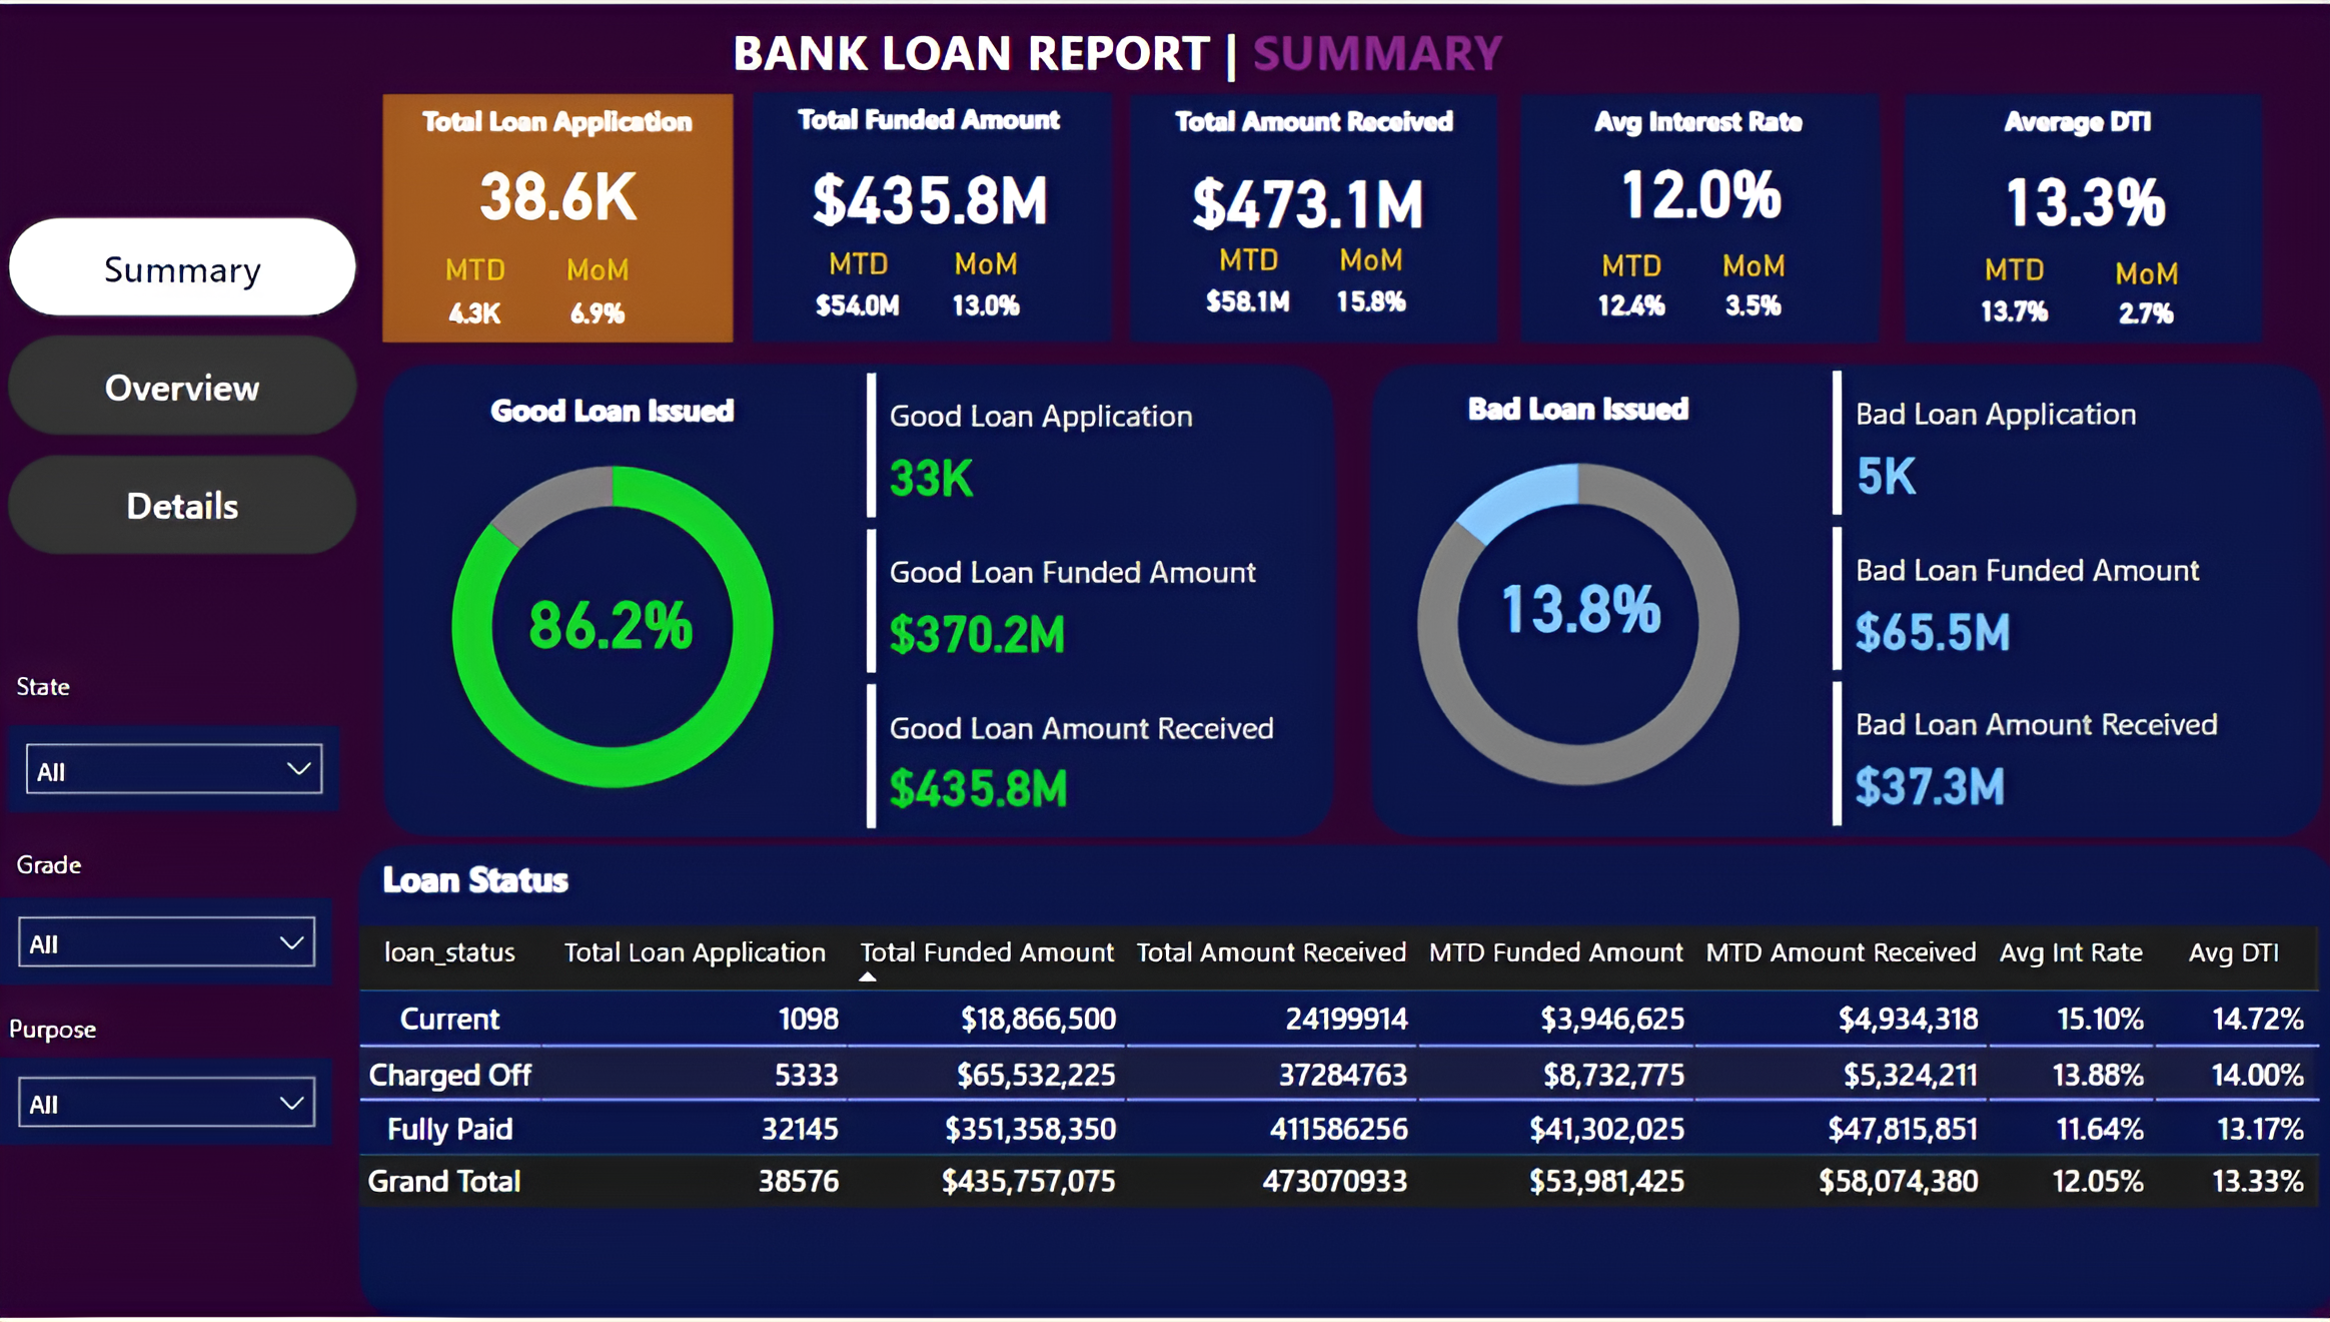

The dashboard page shown, as its layout file describes it:
{"tool":"powerbi","page":{"name":"Summary","canvas":[1280,720],"ordinal":0},"visuals":[{"type":"shape","box":[196.2,461.1,1084.1,259.3],"z":1000},{"type":"shape","box":[211.4,50,184.9,133.5],"z":2000,"group":"g1"},{"type":"shape","box":[413,52,194.9,133.1],"z":2000,"group":"g2"},{"type":"shape","box":[623.7,79.4,194.9,105.2],"z":2000,"group":"g3"},{"type":"shape","box":[1045.6,80.9,194.9,103.5],"z":2000,"group":"g5"},{"type":"shape","box":[834.3,84,194.9,101.2],"z":2000,"group":"g4"},{"type":"shape","box":[209.9,197.6,521.4,259.3],"z":2000},{"type":"textbox","box":[396.6,2.7,462.4,46.7],"z":4000},{"type":"card","fields":{"Values":["bank_loan.Total Loan Application"]},"box":[209.9,79.3,192.1,45.6],"z":4000,"group":"g1"},{"type":"card","fields":{"Values":["bank_loan.Average Interset Rate"]},"box":[836.6,79.7,190.7,43.3],"z":4000,"group":"g4"},{"type":"card","fields":{"Values":["bank_loan.Total Fund"]},"box":[413.2,81.2,194.9,48],"z":4000,"group":"g2"},{"type":"card","fields":{"Values":["Sum(bank_loan.total_payment)"]},"box":[620.2,81.7,194.9,48],"z":4000,"group":"g3"},{"type":"card","fields":{"Values":["bank_loan.Avg DTI"]},"box":[1047.5,82.5,192.1,46.1],"z":4000,"group":"g5"},{"type":"textbox","box":[413.2,48.3,196.2,41.2],"z":5000,"group":"g2"},{"type":"textbox","box":[621.3,48.8,199,28.8],"z":5000,"group":"g3"},{"type":"group","id":"g1","title":"Group 1","box":[209.9,49.4,192.1,135.8],"z":5000},{"type":"textbox","box":[209.9,49.4,192.1,42.7],"z":5000,"group":"g1"},{"type":"textbox","box":[838,49.4,186.6,33.2],"z":5000,"group":"g4"},{"type":"textbox","box":[1046.1,49.4,192.1,33.1],"z":5000,"group":"g5"},{"type":"card","title":"MTD","fields":{"Values":["bank_loan.MTD Amount Received"]},"box":[644.3,130,79.6,49.2],"z":6000,"group":"g3"},{"type":"card","title":"MTD","fields":{"Values":["bank_loan.MTD Funded Amount"]},"box":[430.5,132.1,79.6,43.9],"z":6000,"group":"g2"},{"type":"card","title":"MTD","fields":{"Values":["bank_loan.MTD Average int_rate"]},"box":[855,132.7,79.6,47.3],"z":6000,"group":"g4"},{"type":"card","title":"MTD","fields":{"Values":["bank_loan.MTD LOAN APPLICATION"]},"box":[220.6,135.7,79.4,49.6],"z":6000,"group":"g1"},{"type":"card","title":"MTD","fields":{"Values":["bank_loan.MTD DTI"]},"box":[1065.3,136.2,79.6,47.6],"z":6000,"group":"g5"},{"type":"textbox","box":[4.1,359.5,192.1,30.2],"z":6000},{"type":"card","title":"MoM","fields":{"Values":["bank_loan.MOM Amount Received"]},"box":[711.5,130,79.6,49.2],"z":7000,"group":"g3"},{"type":"card","title":"MoM","fields":{"Values":["bank_loan.MOM Fund Amount"]},"box":[500.5,132.1,79.6,43.9],"z":7000,"group":"g2"},{"type":"card","title":"MoM","fields":{"Values":["bank_loan.MOM Average Int Rate"]},"box":[922.2,132.7,79.6,47.3],"z":7000,"group":"g4"},{"type":"card","title":"MoM","fields":{"Values":["bank_loan.MOM loan Application"]},"box":[287.7,135.7,79.4,49.6],"z":7000,"group":"g1"},{"type":"card","title":"MoM","fields":{"Values":["bank_loan.MOM Avg DTI"]},"box":[1138,137.6,79.6,47.6],"z":7000,"group":"g5"},{"type":"textbox","box":[240.1,205.8,192.1,42.5],"z":7000},{"type":"group","id":"g2","title":"Group 1","box":[413,48.3,196.4,136.8],"z":8000},{"type":"group","id":"g3","title":"Group 1","box":[620.2,48.8,200,135.8],"z":9000},{"type":"donutChart","fields":{"Category":["bank_loan.Good Loan vs Bad Loan"],"Y":["bank_loan.Total Loan Application"]},"box":[211.3,226.4,249.7,230.5],"z":10000},{"type":"group","id":"g4","title":"Group 1","box":[834.3,49.4,194.9,135.8],"z":11000},{"type":"group","id":"g5","title":"Group 1","box":[1045.6,49.4,194.9,135.8],"z":12000},{"type":"shape","box":[752,197.6,521.4,259.3],"z":13000},{"type":"card","fields":{"Values":["bank_loan.Good Loan Percentage"]},"box":[240.1,315.6,190.7,43.9],"z":14000},{"type":"cardVisual","fields":{"Data":["bank_loan.Good Loan Application","bank_loan.Good Loan Funded Amount","bank_loan.Good Loan Amount Received"]},"box":[470.7,197.6,251.1,259.3],"z":15000},{"type":"textbox","box":[769.4,204.9,192.1,42.5],"z":16000},{"type":"donutChart","fields":{"Category":["bank_loan.Good Loan vs Bad Loan"],"Y":["bank_loan.Total Loan Application"]},"box":[740.6,225.4,249.7,230.5],"z":17000},{"type":"cardVisual","fields":{"Data":["bank_loan.Bad Loan Application","bank_loan.Bad Loan Funded Amount","bank_loan.Bad Loan Amount Received"]},"box":[999.9,196.6,251.1,259.3],"z":18000},{"type":"card","fields":{"Values":["bank_loan.Bad Loan Percentage"]},"box":[771.2,306,190.7,43.9],"z":19000},{"type":"tableEx","fields":{"Values":["bank_loan.loan_status","bank_loan.Total Loan Application","bank_loan.Total Fund","bank_loan.Total Amount Received","bank_loan.MTD Funded Amount","bank_loan.MTD Amount Received","bank_loan.Average Interset Rate","bank_loan.Avg DTI"]},"box":[193.5,500.9,1086.8,219.6],"z":20000},{"type":"textbox","box":[164.7,461.1,192.1,42.5],"z":21000},{"type":"slicer","fields":{"Values":["bank_loan.address_state"]},"box":[4.1,395.2,182.5,48],"z":22000},{"type":"textbox","box":[4.1,457,192.1,30.2],"z":23000},{"type":"tableEx","fields":{"Values":["bank_loan.loan_status","bank_loan.Total Loan Application","bank_loan.Total Fund","bank_loan.Total Amount Received","bank_loan.MTD Funded Amount","bank_loan.MTD Amount Received","bank_loan.Average Interset Rate","bank_loan.Avg DTI"]},"box":[191.4,500.4,1086.8,219.6],"z":24000},{"type":"slicer","fields":{"Values":["bank_loan.grade"]},"box":[0,489.3,182.5,48],"z":25000},{"type":"slicer","fields":{"Values":["bank_loan.purpose"]},"box":[0,577.2,182.5,48],"z":26000},{"type":"textbox","box":[0,547,192.1,30.2],"z":27000},{"type":"pageNavigator","box":[4.1,116.6,192.1,185.2],"z":27001}]}

Visuals, with their boxes in screenshot pixels (x1, y1, x2, y2), scaled from the page's 1280x720 canvas onto the 2330x1322 screenshot:
shape: crop(357, 847, 2329, 1321)
shape: crop(385, 92, 721, 337)
shape: crop(752, 95, 1107, 340)
shape: crop(1135, 146, 1490, 339)
shape: crop(1903, 149, 2258, 339)
shape: crop(1519, 154, 1873, 340)
shape: crop(382, 363, 1331, 839)
textbox: crop(722, 5, 1564, 91)
card - bank_loan.Total Loan Application: crop(382, 146, 732, 229)
card - bank_loan.Average Interset Rate: crop(1523, 146, 1870, 226)
card - bank_loan.Total Fund: crop(752, 149, 1107, 237)
card - Sum(bank_loan.total_payment): crop(1129, 150, 1484, 238)
card - bank_loan.Avg DTI: crop(1907, 151, 2256, 236)
textbox: crop(752, 89, 1109, 164)
textbox: crop(1131, 90, 1493, 142)
"Group 1" group: crop(382, 91, 732, 340)
textbox: crop(382, 91, 732, 169)
textbox: crop(1525, 91, 1865, 152)
textbox: crop(1904, 91, 2254, 151)
"MTD" card: crop(1173, 239, 1318, 329)
"MTD" card: crop(784, 243, 929, 323)
"MTD" card: crop(1556, 244, 1701, 330)
"MTD" card: crop(402, 249, 546, 340)
"MTD" card: crop(1939, 250, 2084, 337)
textbox: crop(7, 660, 357, 716)
"MoM" card: crop(1295, 239, 1440, 329)
"MoM" card: crop(911, 243, 1056, 323)
"MoM" card: crop(1679, 244, 1824, 330)
"MoM" card: crop(524, 249, 668, 340)
"MoM" card: crop(2072, 253, 2216, 340)
textbox: crop(437, 378, 787, 456)
"Group 1" group: crop(752, 89, 1109, 340)
"Group 1" group: crop(1129, 90, 1493, 339)
donutChart - bank_loan.Good Loan vs Bad Loan x bank_loan.Total Loan Application: crop(385, 416, 839, 839)
"Group 1" group: crop(1519, 91, 1873, 340)
"Group 1" group: crop(1903, 91, 2258, 340)
shape: crop(1369, 363, 2318, 839)
card - bank_loan.Good Loan Percentage: crop(437, 579, 784, 660)
cardVisual - bank_loan.Good Loan Application x bank_loan.Good Loan Funded Amount: crop(857, 363, 1314, 839)
textbox: crop(1401, 376, 1750, 454)
donutChart - bank_loan.Good Loan vs Bad Loan x bank_loan.Total Loan Application: crop(1348, 414, 1803, 837)
cardVisual - bank_loan.Bad Loan Application x bank_loan.Bad Loan Funded Amount: crop(1820, 361, 2277, 837)
card - bank_loan.Bad Loan Percentage: crop(1404, 562, 1751, 642)
tableEx - bank_loan.loan_status x bank_loan.Total Loan Application: crop(352, 920, 2329, 1321)
textbox: crop(300, 847, 649, 925)
slicer - bank_loan.address_state: crop(7, 726, 340, 814)
textbox: crop(7, 839, 357, 895)
tableEx - bank_loan.loan_status x bank_loan.Total Loan Application: crop(348, 919, 2327, 1321)
slicer - bank_loan.grade: crop(0, 898, 332, 987)
slicer - bank_loan.purpose: crop(0, 1060, 332, 1148)
textbox: crop(0, 1004, 350, 1060)
pageNavigator: crop(7, 214, 357, 554)
